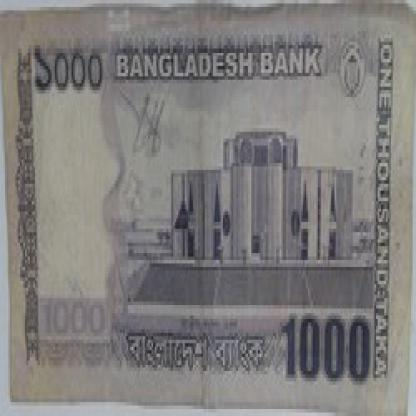One Thousand taka: (280, 309, 376, 395), (31, 38, 106, 97)
